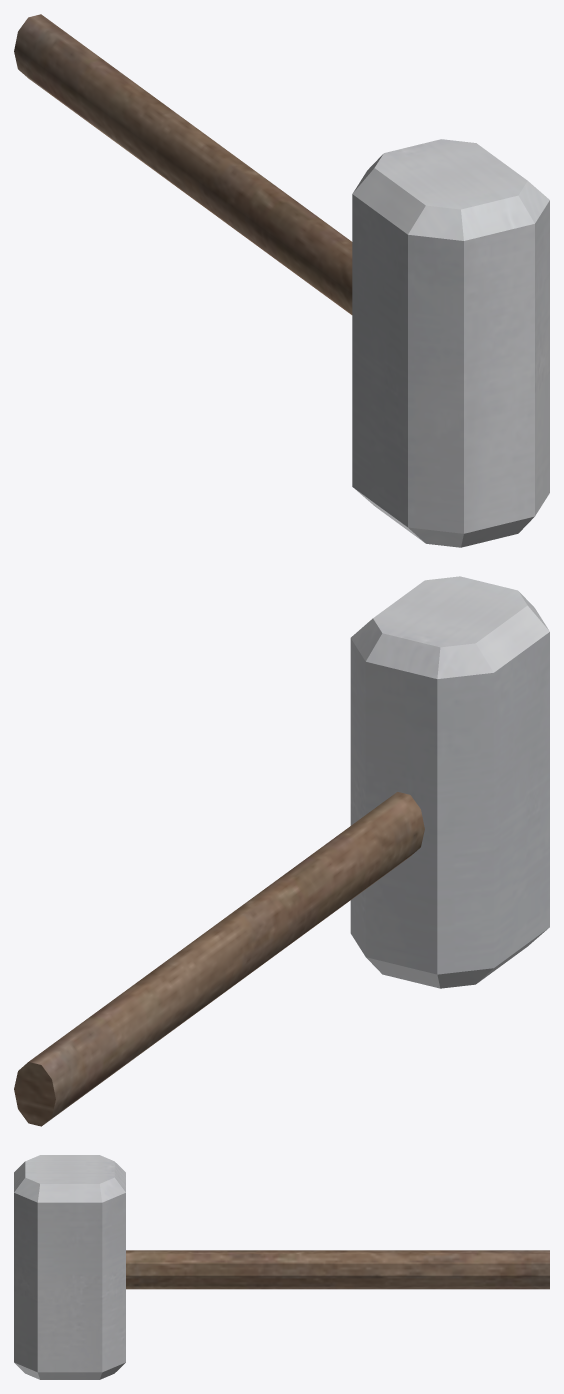
Rendered from Hammer.fbx.
3 renders of one model, top to bottom at view 1: azimuth 30°, elevation 25°; view 2: azimuth 150°, elevation 25°; view 3: azimuth 270°, elevation 25°, orthographic. The views are drawn at different scales.
Visible parts, largest first — view 1: Hammer; view 2: Hammer; view 3: Hammer.
Part boxes in pixels (bbox=[...]): Hammer: bbox=[14, 14, 549, 547]; Hammer: bbox=[14, 576, 549, 1126]; Hammer: bbox=[14, 1155, 549, 1379].
Size of the model in its own units: 6.89 by 15.68 by 38.84.
